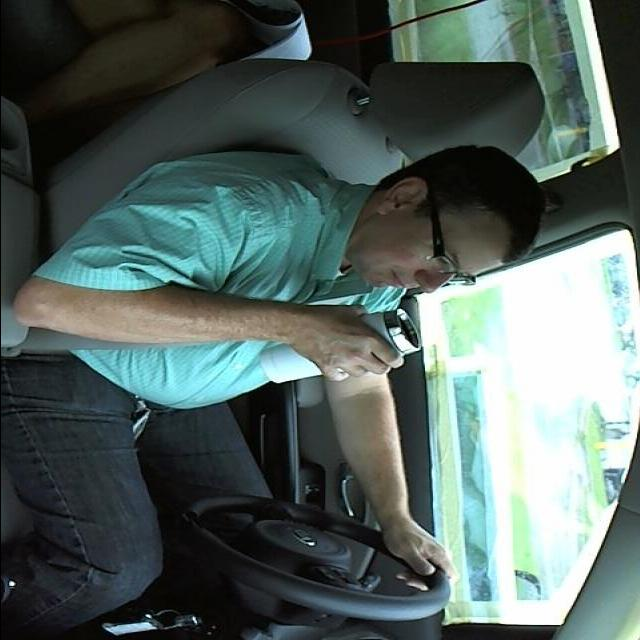drinking: (258, 306, 426, 388)
